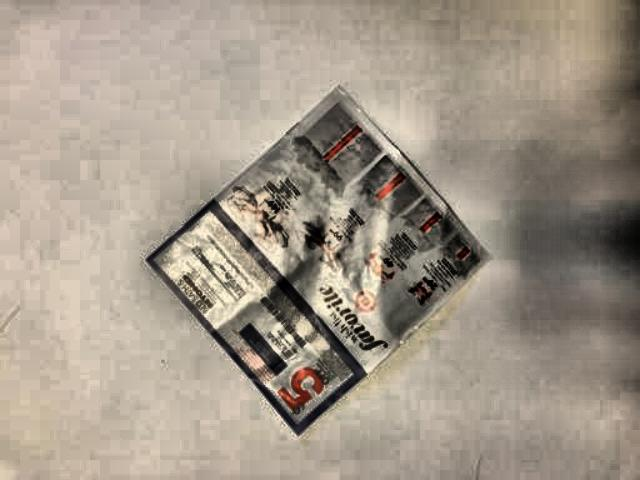Paper: (136, 78, 485, 455)
